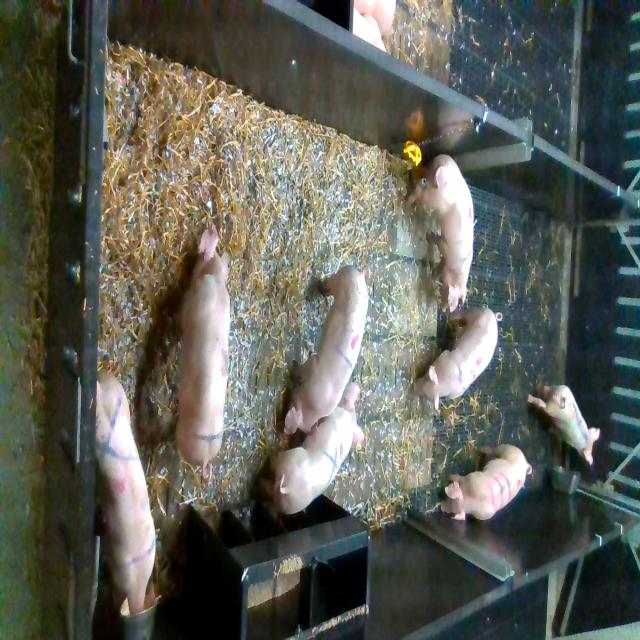pig: (96, 370, 162, 617), (173, 223, 230, 484), (284, 266, 370, 436), (261, 381, 367, 514), (407, 156, 474, 312), (413, 307, 503, 410), (441, 445, 532, 521), (527, 381, 600, 465)
